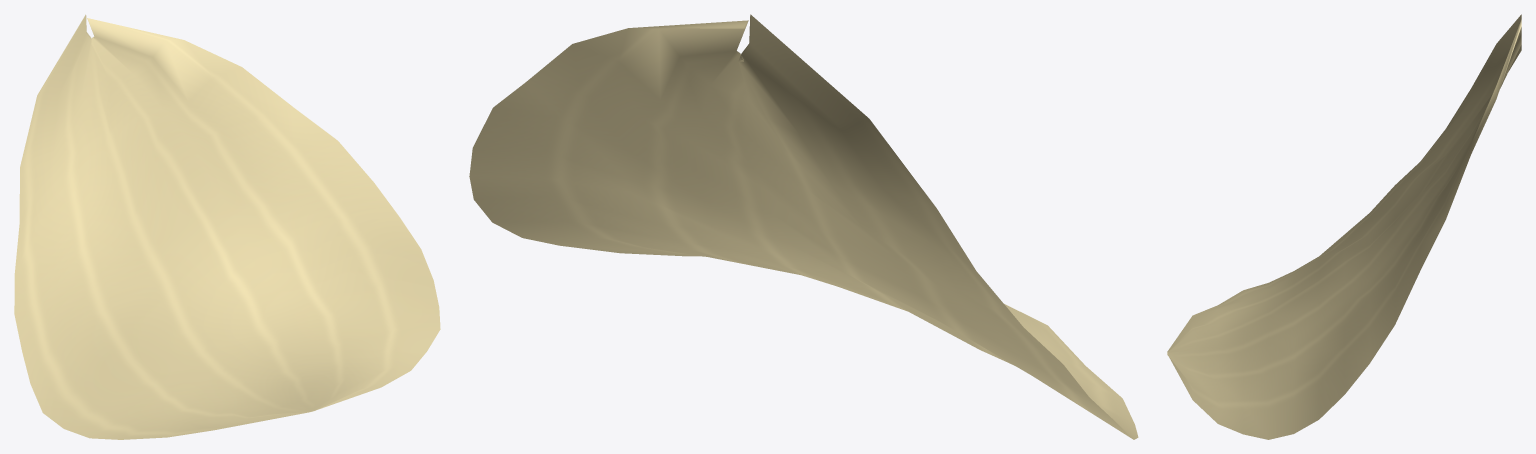
The model's file is petal_02_small.glb.
The picture shows the model from 3 angles, left to right: view 1: azimuth 30°, elevation 25°; view 2: azimuth 150°, elevation 25°; view 3: azimuth 270°, elevation 25°; orthographic projection. The views are drawn at different scales.
Parts seen in each view (by area): view 1: petal_02_small; view 2: petal_02_small; view 3: petal_02_small.
Boxes of the visible parts, x1,y1,x2,y2 form: petal_02_small: [14, 14, 440, 439]; petal_02_small: [469, 14, 1138, 439]; petal_02_small: [1167, 14, 1521, 439].
Size of the model in its own units: 0.07 by 0.0528 by 0.0516.
Materials: 1 (1 with a texture image).
